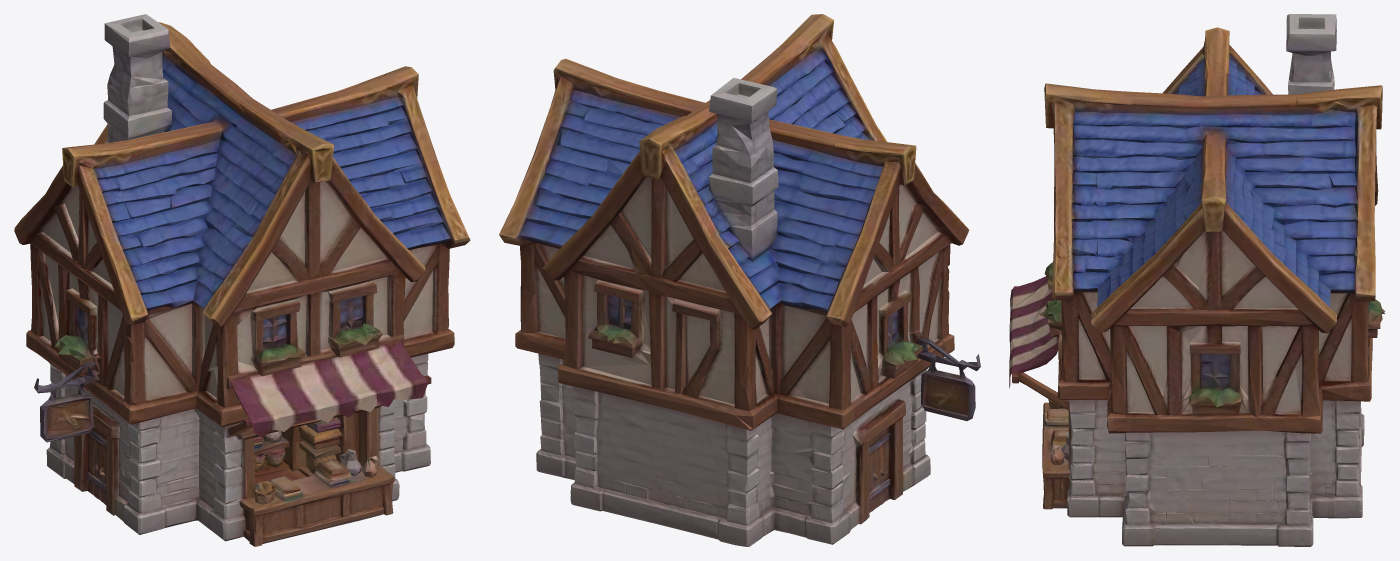
The model's file is oc_shop_awning.glb.
3 renders of one model, left to right at view 1: azimuth 30°, elevation 25°; view 2: azimuth 150°, elevation 25°; view 3: azimuth 270°, elevation 25°, orthographic. The views are drawn at different scales.
Visible parts, largest first — view 1: W_city_shop_2storey_awning; view 2: W_city_shop_2storey_awning; view 3: W_city_shop_2storey_awning.
Boxes of the visible parts, bbox=[...] form: W_city_shop_2storey_awning: bbox=[14, 14, 470, 546]; W_city_shop_2storey_awning: bbox=[499, 14, 980, 546]; W_city_shop_2storey_awning: bbox=[1009, 14, 1385, 546].
Size of the model in its own units: 9.35 by 9.35 by 7.5.
Materials: 1 (1 with a texture image).
